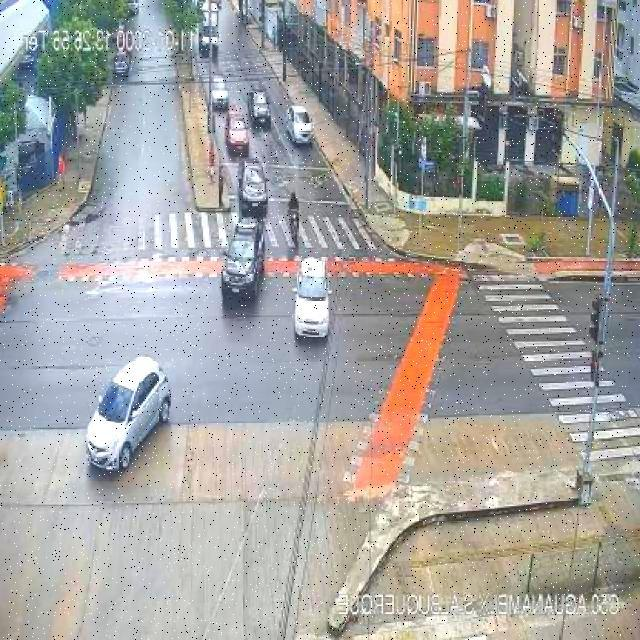Car: (84, 355, 178, 481), (217, 217, 267, 304), (291, 258, 331, 341), (238, 158, 270, 214), (285, 106, 315, 146), (225, 108, 251, 154), (248, 90, 274, 128), (211, 75, 231, 111)
Cycle: (287, 190, 302, 238)
